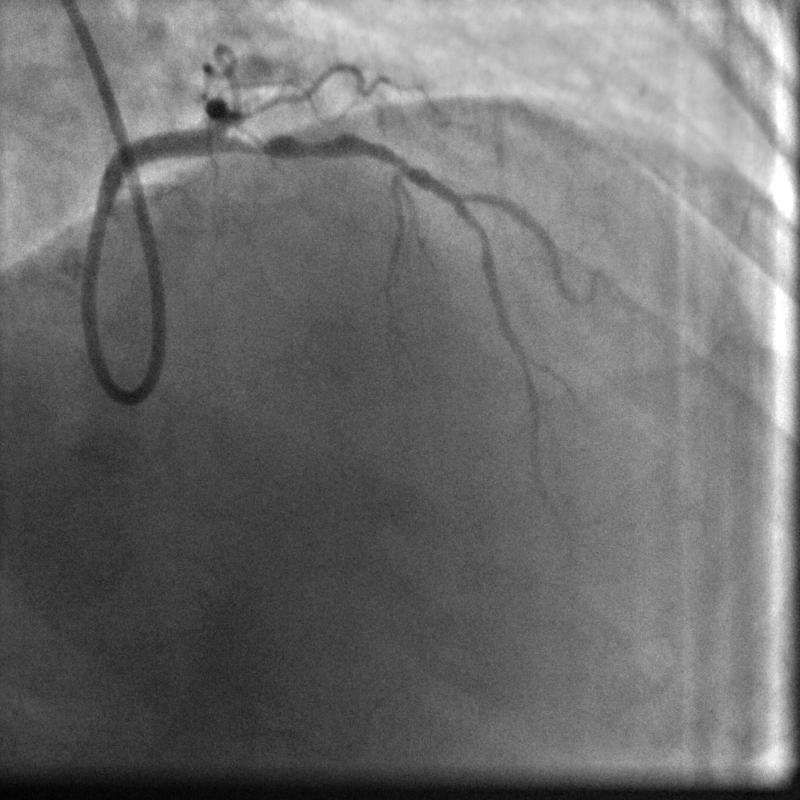Stenosis: (241, 124, 340, 155)
